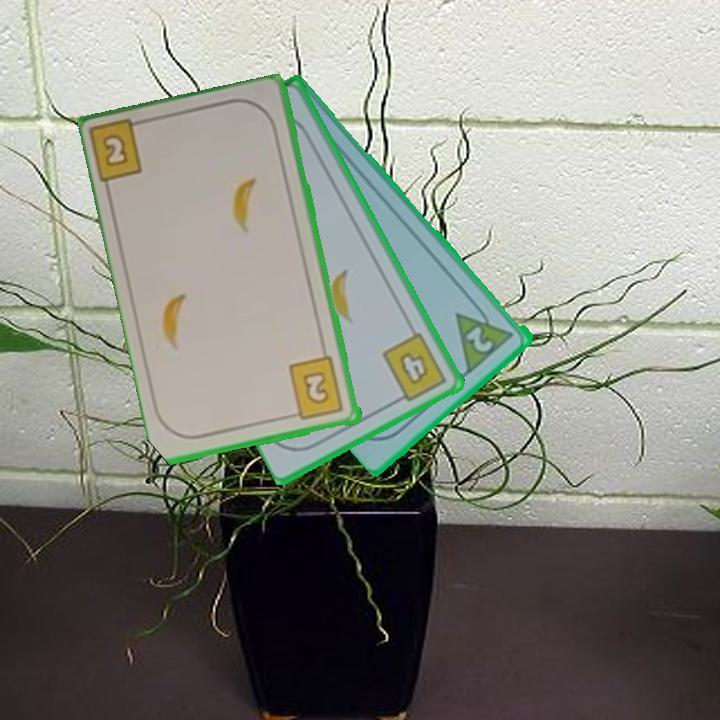2b: (89, 115, 153, 188), (285, 354, 347, 423)
2p: (452, 296, 517, 375)
4b: (378, 329, 450, 407)
